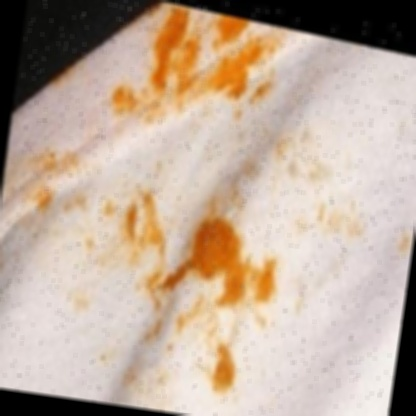kimchi: (0, 139, 328, 412), (106, 62, 259, 141), (150, 0, 268, 83), (220, 110, 348, 183), (320, 196, 416, 268), (259, 30, 298, 95)
